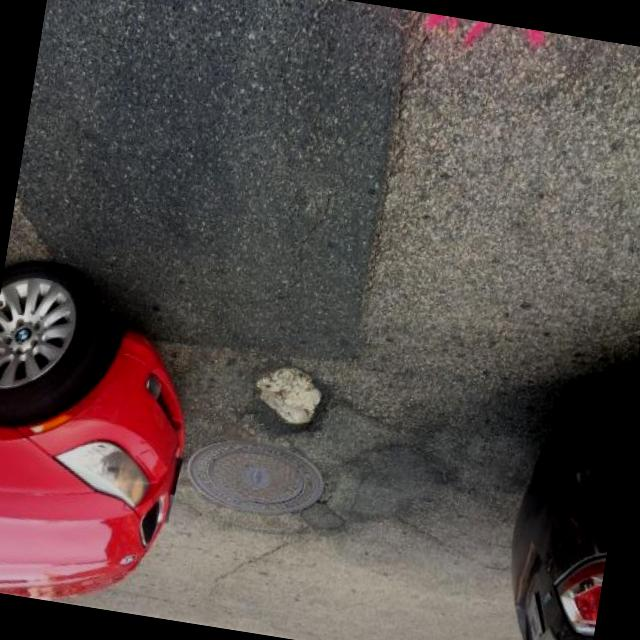pothole: (240, 358, 336, 446)
